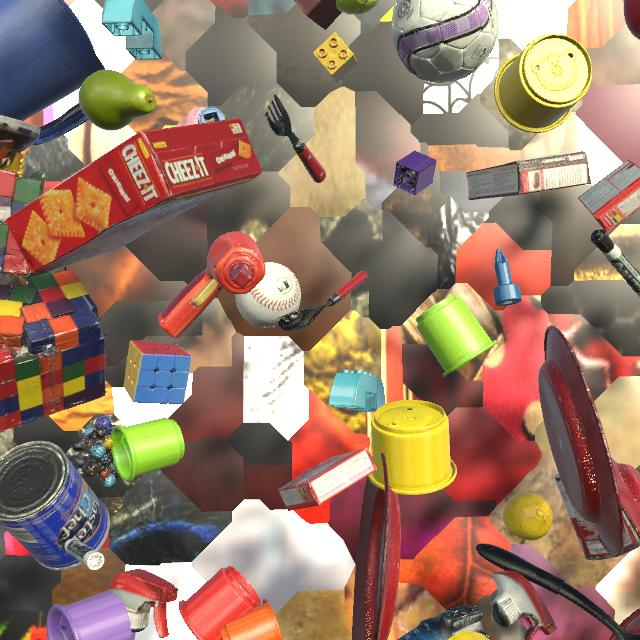ycb_002_master_chef_can: (0, 441, 110, 571)
ycb_003_cracker_box: (5, 118, 263, 274)
ycb_005_tomato_soup_can: (555, 463, 640, 560)
ycb_008_pudding_box: (466, 151, 591, 200)
ycb_009_gelatin_box: (278, 448, 377, 511), (578, 159, 640, 233)
ycb_013_apple: (623, 0, 640, 40)
ycb_014_lemon: (503, 492, 553, 540)
ycb_016_pear: (78, 69, 157, 131)
